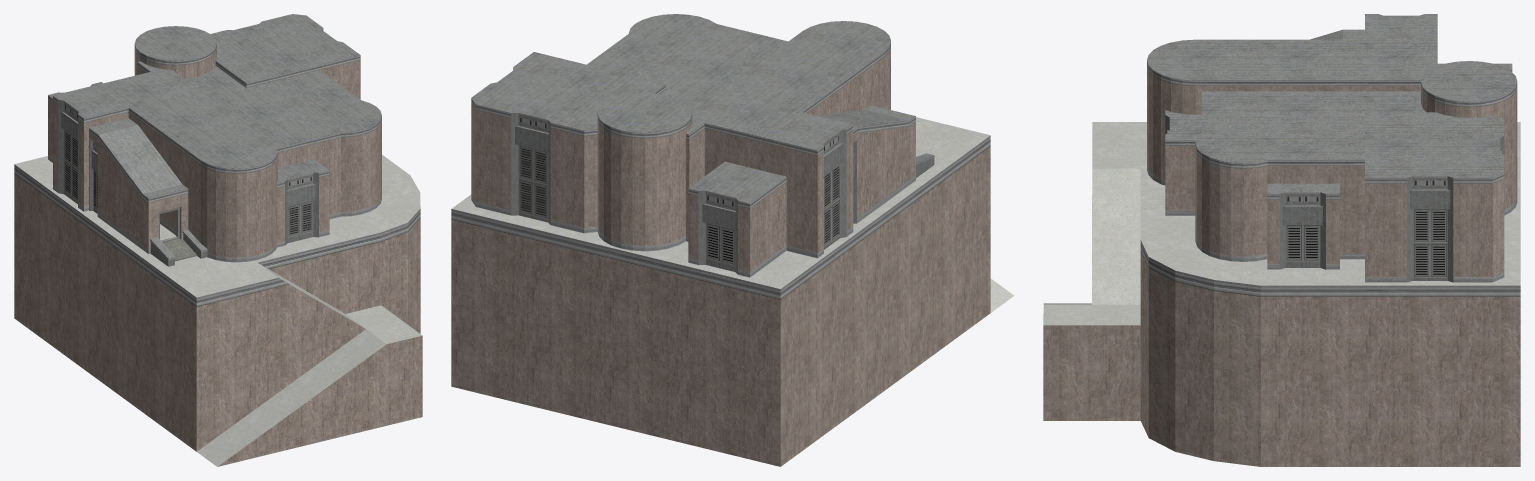
The model's file is ply_corl_house_lg_s02_fp1_r0_mesh_l0.fbx.
3 views of the same model, side by side, from view 1: azimuth 30°, elevation 25°; view 2: azimuth 150°, elevation 25°; view 3: azimuth 270°, elevation 25° (orthographic). The views are drawn at different scales.
Visible parts, largest first — view 1: mesh_node; view 2: mesh_node; view 3: mesh_node.
Boxes of the visible parts, left/top/right/bottom form: mesh_node: left=14, top=14, right=422, bottom=466; mesh_node: left=451, top=14, right=1014, bottom=466; mesh_node: left=1043, top=14, right=1520, bottom=466.
Bounding box in the file's own units: 31.97 × 27.49 × 39.4.
